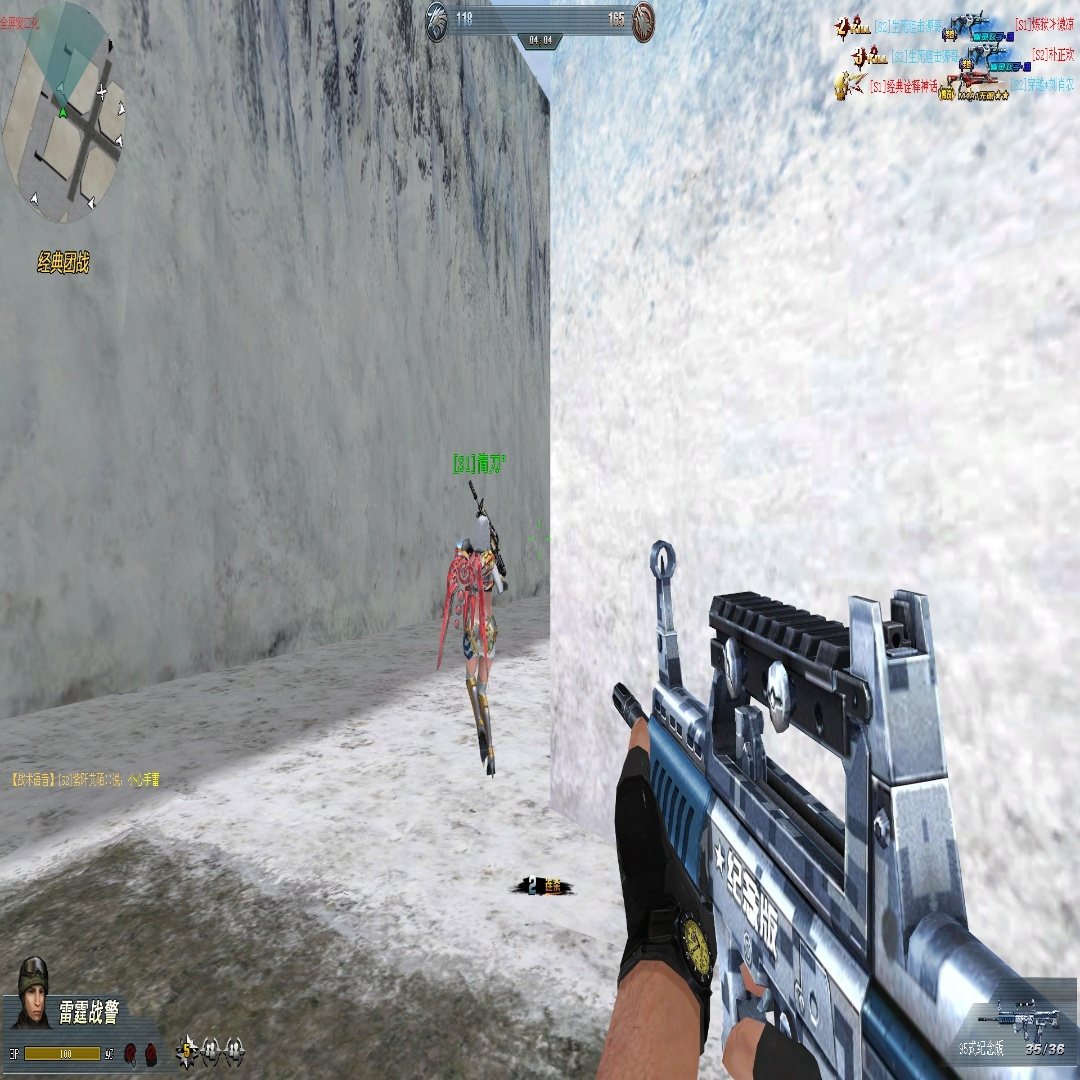ct: (461, 512, 501, 784)
